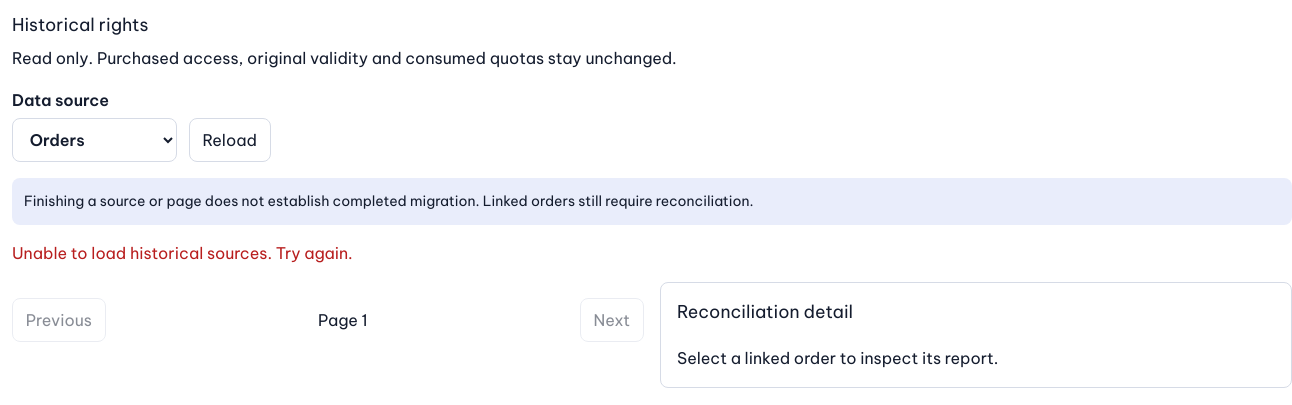
Test: Historical membership inventory › provides localized error recovery and empty-page scope in English
This screenshot has width=1292, height=405.
Expected: the message reads "Unable to load historical sources. Try again.", [12,243,353,263]
Click the button "Reload".
click(230, 140)  # box [189,118,271,162]
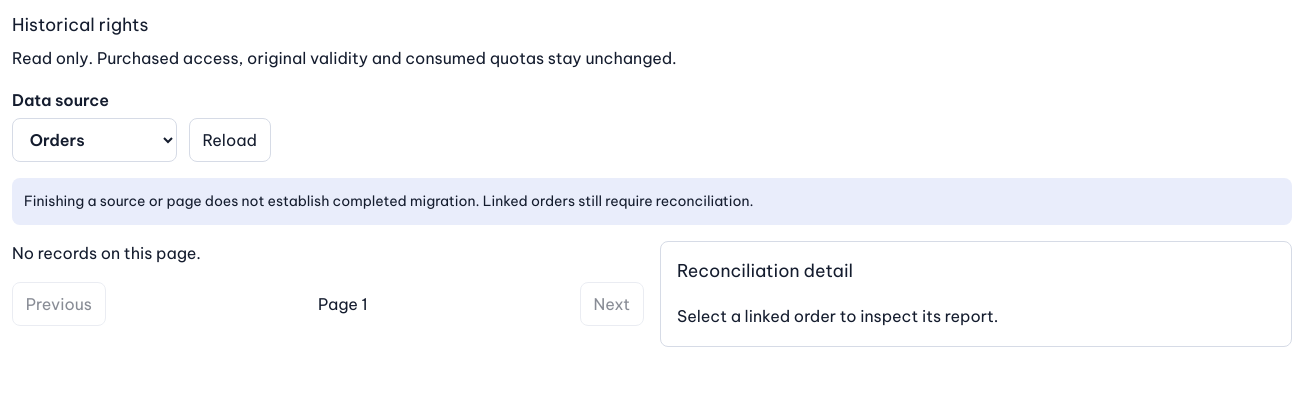
Expected: the button "Next" is disabled, [580,282,644,326]
Expected: the text "No records on this page." is shown, [12,243,201,263]
